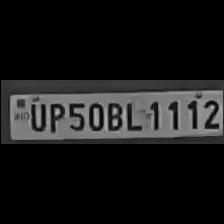0: (84, 99, 104, 130)
1: (142, 97, 162, 130), (162, 97, 182, 130), (182, 98, 198, 130)
2: (200, 96, 220, 130)
5: (64, 99, 84, 130)
B: (104, 99, 122, 130)
L: (122, 97, 142, 130)
P: (44, 100, 64, 132)
U: (24, 100, 46, 132)
